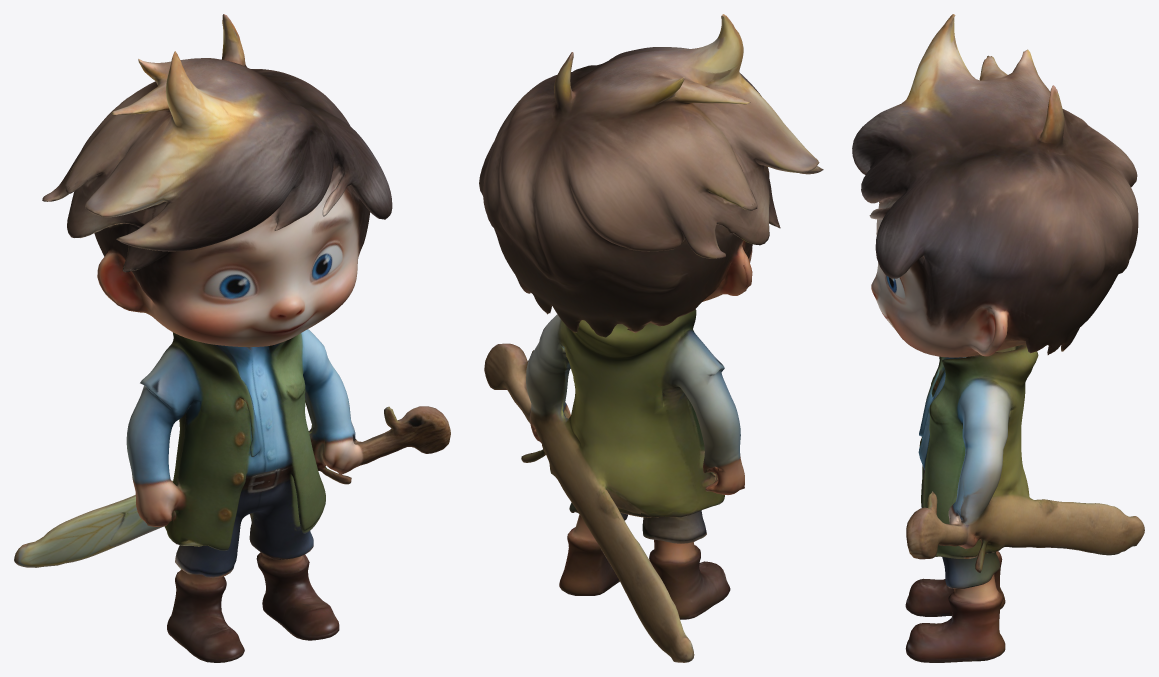
Rendered from character.glb.
3 views of the same model, side by side, from view 1: azimuth 30°, elevation 25°; view 2: azimuth 150°, elevation 25°; view 3: azimuth 270°, elevation 25° (orthographic). The views are drawn at different scales.
Bounding box in the file's own units: 1.2 × 1.99 × 0.9124.
Materials: 1 (1 with a texture image).
